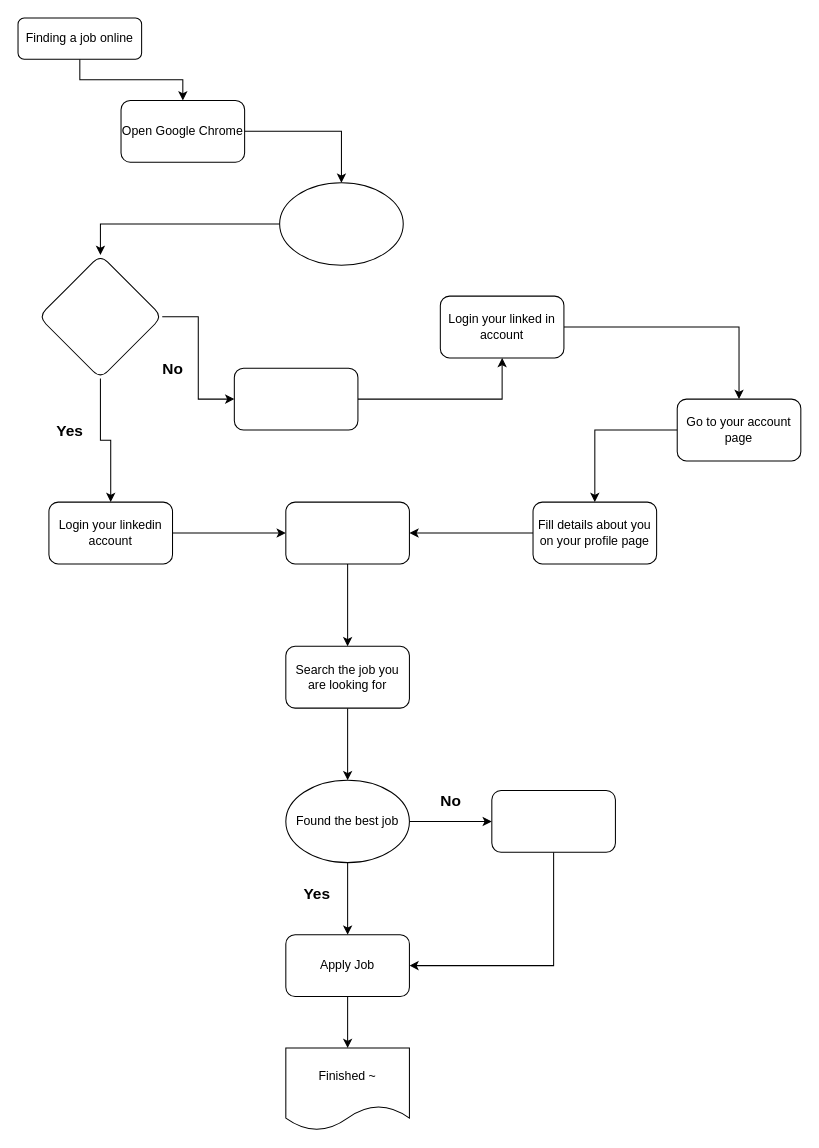
This 819x1148 diagram has some shape labels left out. The centre of each missing label's shape, as x and y in pixels:
"Have linked in account" belongs at pixel 100 316.
"Keep trying until find the best job" belongs at pixel 553 820.
"Open job search" belongs at pixel 347 532.
"Open link linkedin.com" belongs at pixel 341 223.
"Sign up" belongs at pixel 295 398.
